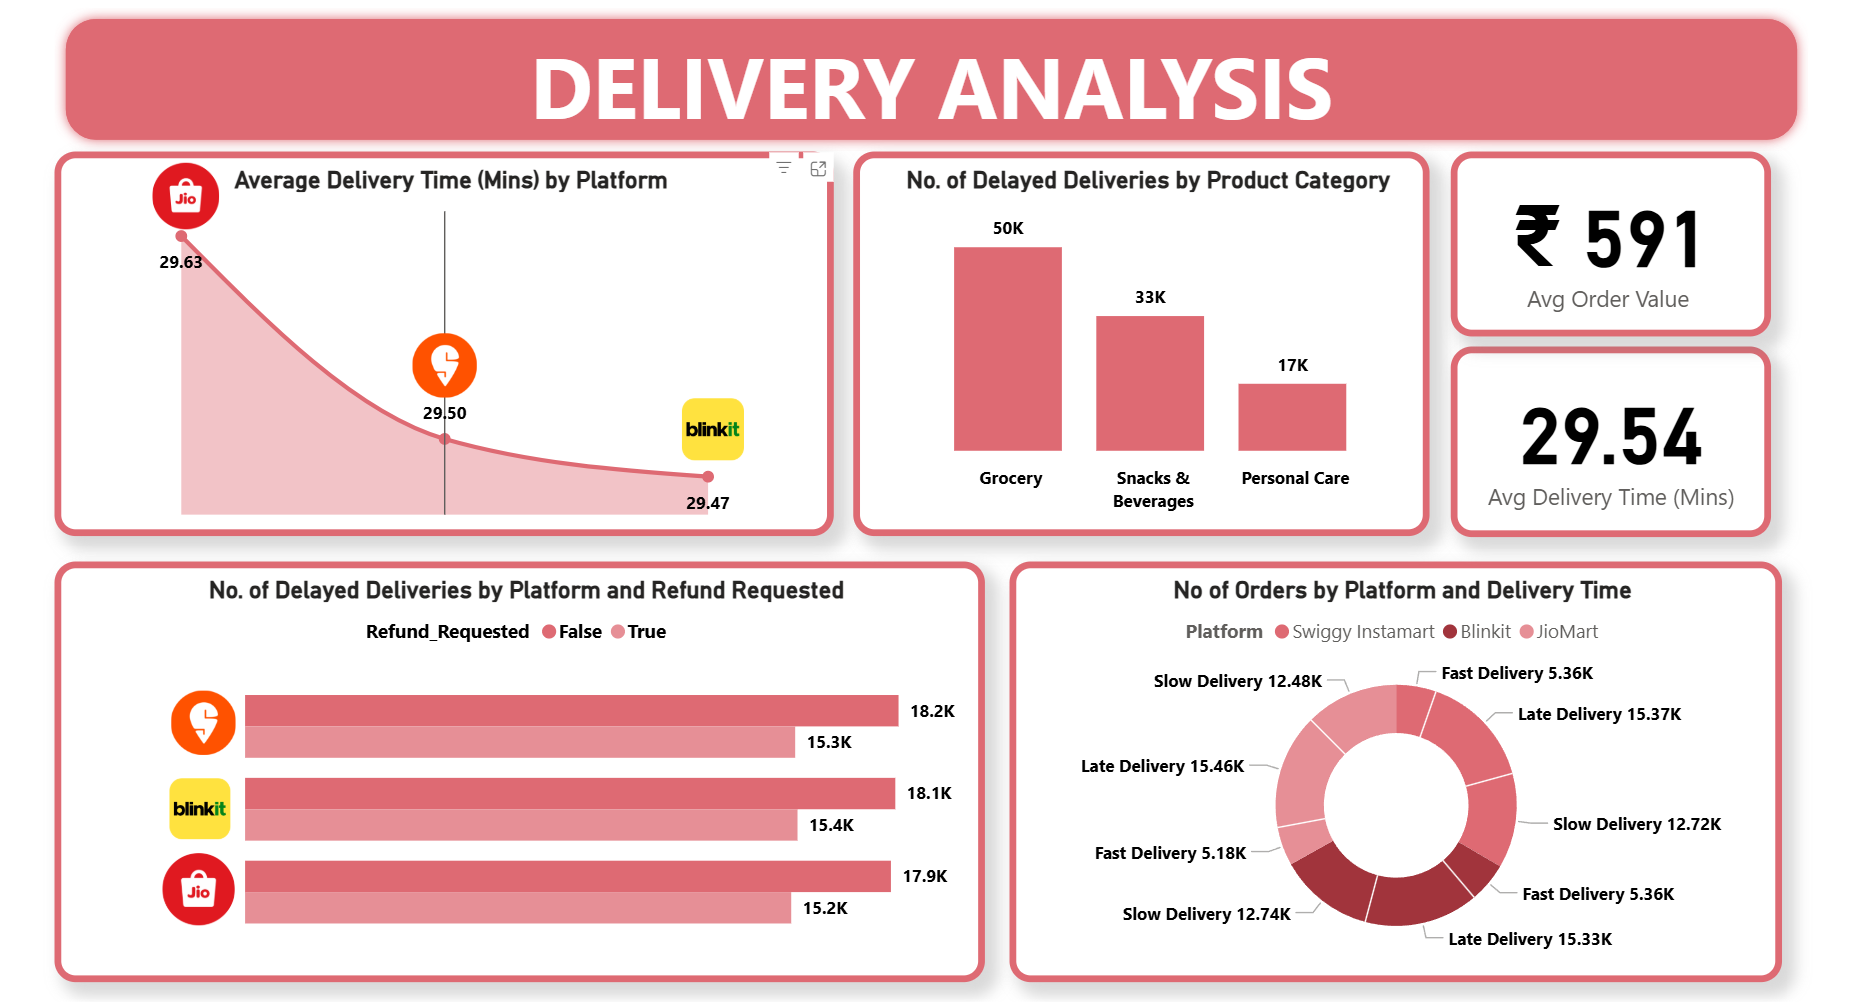

What the dashboard file says about the page in this screenshot:
{"tool":"powerbi","page":{"name":"Delivery Analysis","canvas":[1280,720],"ordinal":1},"visuals":[{"type":"shape","title":"E-COMMERCE REVENUE ANALYSIS","box":[15.9,10,1244.2,101.6],"z":0},{"type":"lineChart","title":"Average Delivery Time (Mins) by Platform","fields":{"Category":["Ecommerce_Delivery_Analytics_New.Platform"],"Y":["Avg(Ecommerce_Delivery_Analytics_New.Delivery_Time_Minutes)"]},"box":[16,112,553.2,273.1],"z":1000},{"type":"clusteredBarChart","title":"No. of  Delayed Deliveries by Platform and Refund Requested","fields":{"Category":["Ecommerce_Delivery_Analytics_New.Platform"],"Y":["CountNonNull(Ecommerce_Delivery_Analytics_New.Delivery_Delay)"],"Series":["Ecommerce_Delivery_Analytics_New.Refund_Requested"]},"box":[16,402.1,660.2,298.1],"z":2000},{"type":"donutChart","title":"No of Orders by Platform and Delivery Time","fields":{"Category":["Ecommerce_Delivery_Analytics_New.Platform"],"Series":["Ecommerce_Delivery_Analytics_New.Delivery Time"],"Y":["CountNonNull(Ecommerce_Delivery_Analytics_New.Order_ID)"]},"box":[693.2,402.1,548.2,298.1],"z":3000},{"type":"clusteredColumnChart","title":"No. of Delayed Deliveries by  Product Category","fields":{"Category":["Ecommerce_Delivery_Analytics_New.Real Product Catagory"],"Y":["CountNonNull(Ecommerce_Delivery_Analytics_New.Delivery_Delay)"]},"box":[582.2,112,409.1,273.1],"z":4000},{"type":"card","fields":{"Values":["Avg(Ecommerce_Delivery_Analytics_New.Delivery_Time_Minutes)"]},"box":[1006.3,250.1,227.1,135],"z":5000},{"type":"card","fields":{"Values":["Avg(Ecommerce_Delivery_Analytics_New.Order_Value_INR)"]},"box":[1006.3,112,227.1,131],"z":6000},{"type":"image","box":[94,488.2,55,56],"z":7000},{"type":"image","box":[73,551.2,93,53],"z":8000},{"type":"image","box":[88,604.2,61,63],"z":9000},{"type":"image","box":[265,236.1,55.8,55.8],"z":10000},{"type":"image","box":[436.3,281.9,93.6,53.8],"z":11000},{"type":"image","box":[80.7,111.6,56.8,62.8],"z":12000}]}

Visuals, with their boxes on the page's 1280x720 design canvas (x1, y1, x2, y2). These are canvas units, not pixel positions in the 1850x1002 screenshot, which may show the page scaled, cropped or inside an application window:
"E-COMMERCE REVENUE ANALYSIS" shape: region(16, 10, 1260, 112)
"Average Delivery Time (Mins) by Platform" lineChart: region(16, 112, 569, 385)
"No. of  Delayed Deliveries by Platform and Refund Requested" clusteredBarChart: region(16, 402, 676, 700)
"No of Orders by Platform and Delivery Time" donutChart: region(693, 402, 1241, 700)
"No. of Delayed Deliveries by  Product Category" clusteredColumnChart: region(582, 112, 991, 385)
card - Avg(Ecommerce_Delivery_Analytics_New.Delivery_Time_Minutes): region(1006, 250, 1233, 385)
card - Avg(Ecommerce_Delivery_Analytics_New.Order_Value_INR): region(1006, 112, 1233, 243)
image: region(94, 488, 149, 544)
image: region(73, 551, 166, 604)
image: region(88, 604, 149, 667)
image: region(265, 236, 321, 292)
image: region(436, 282, 530, 336)
image: region(81, 112, 138, 174)
